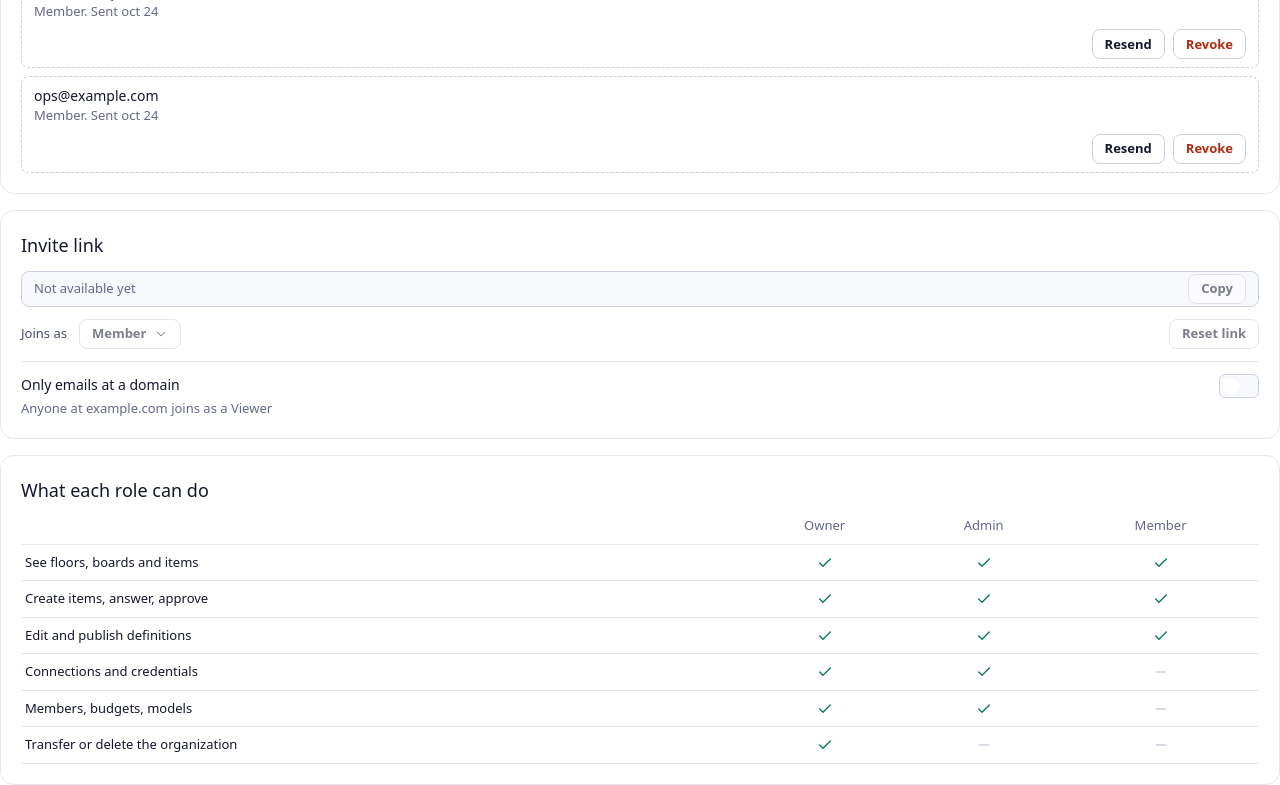
it: sign-up by domain › shows a public email provider and a domain another organization holds as refusals
(page scrolled)
Click the switch named "Restrict sign-up to a domain" at coordinates (1239, 386), box [1219, 374, 1259, 398]
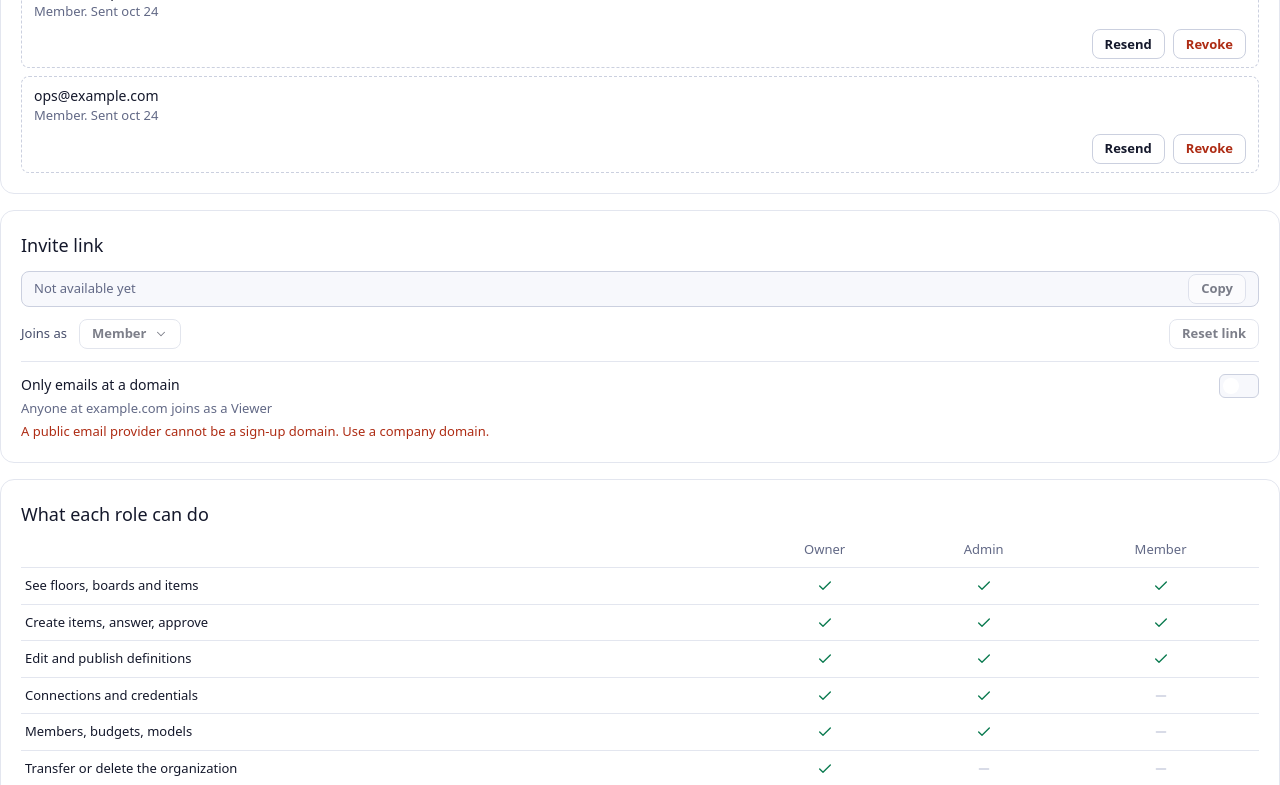
Expected: the message shows "A public email provider cannot be a sign-up domain", [21, 422, 489, 440]
